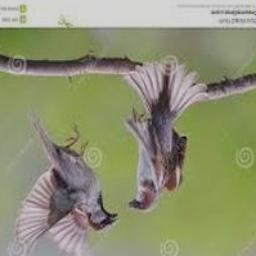Sparrow: (15, 113, 120, 256), (125, 58, 208, 211)
